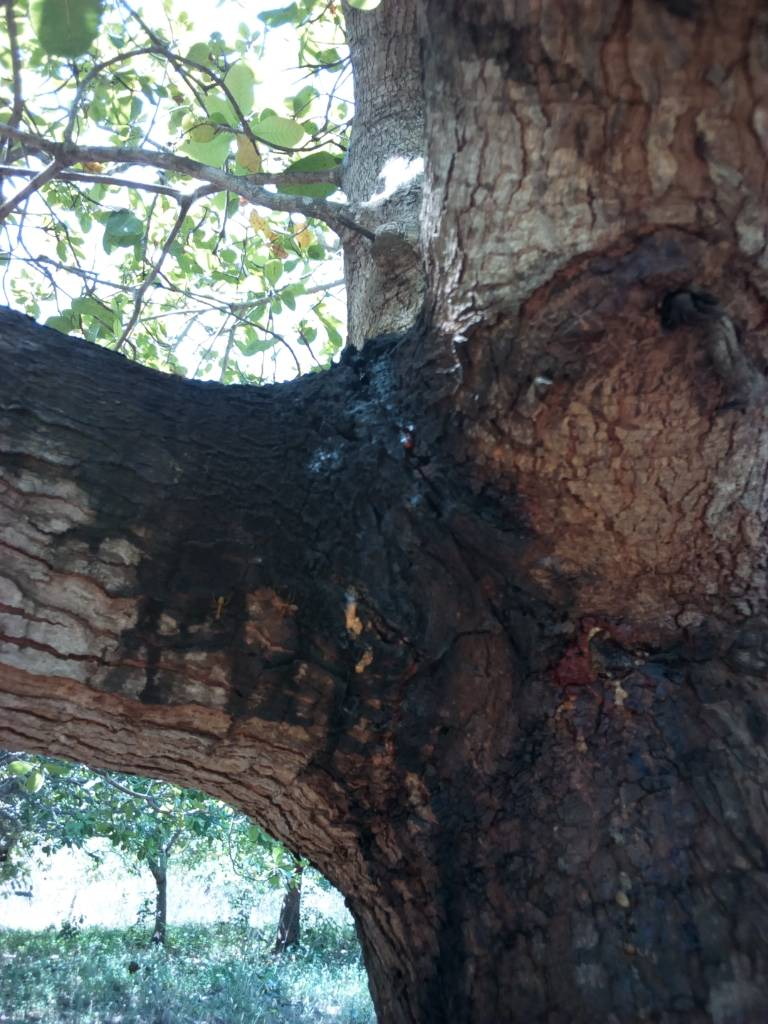Gommose: (88, 324, 513, 635), (452, 657, 768, 1024)
